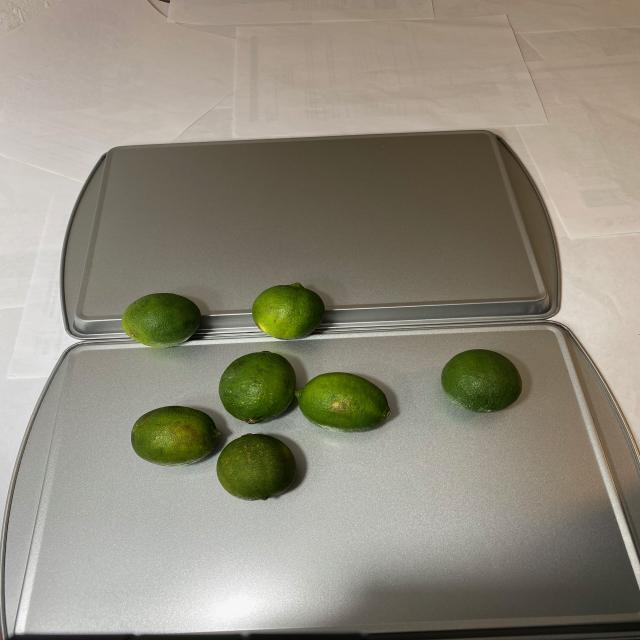lemon: (118, 284, 520, 506)
